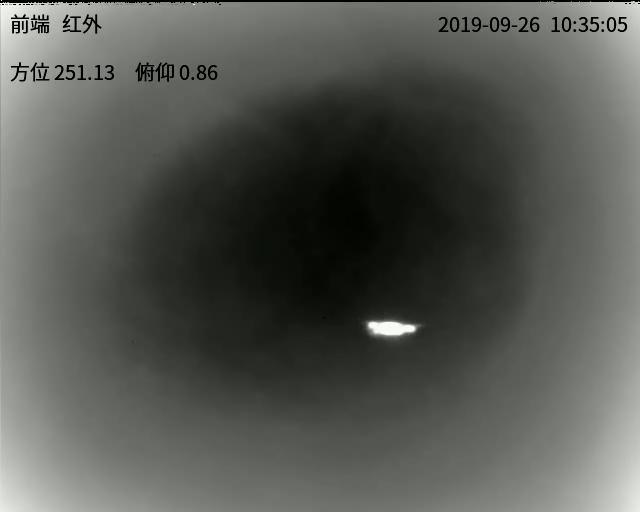uav: (372, 318, 429, 339)
